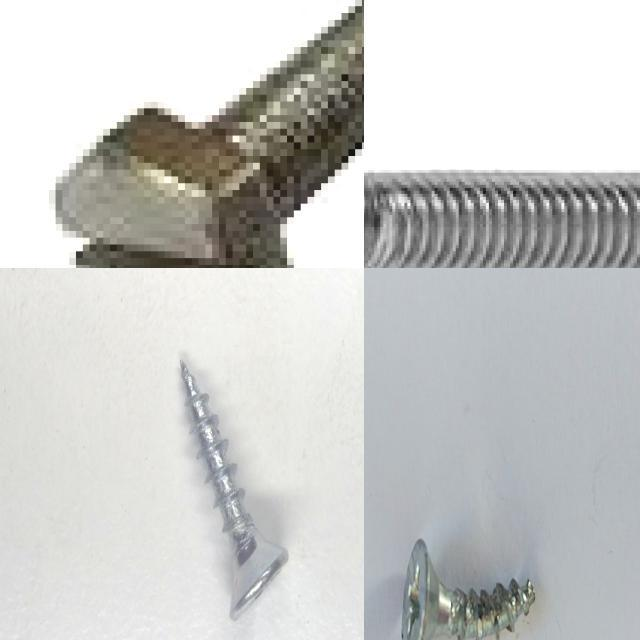Screw: (56, 0, 364, 268), (181, 359, 288, 619), (364, 173, 640, 268), (402, 539, 535, 640)
